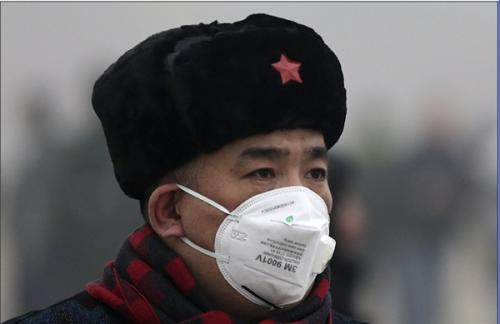mask: (150, 171, 332, 310)
